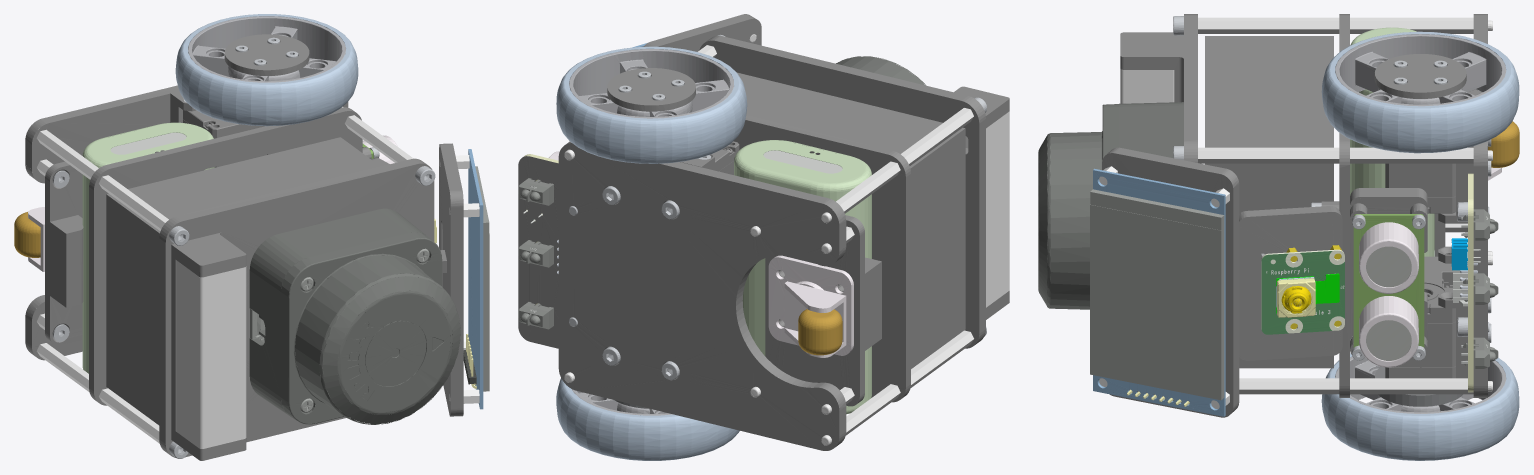
Rendered from pinky.glb.
The picture shows the model from 3 angles, left to right: view 1: azimuth 30°, elevation 25°; view 2: azimuth 150°, elevation 25°; view 3: azimuth 270°, elevation 25°; orthographic projection. The views are drawn at different scales.
Parts seen in each view (by area): view 1: geometry_16; view 2: geometry_16; view 3: geometry_16.
Boxes of the visible parts, bbox=[...] form: geometry_16: bbox=[14, 14, 489, 460]; geometry_16: bbox=[518, 14, 1009, 460]; geometry_16: bbox=[1038, 14, 1519, 460].
Bounding box in the file's own units: 0.118 × 0.1101 × 0.1362.
Materials: 1 (1 with a texture image).
